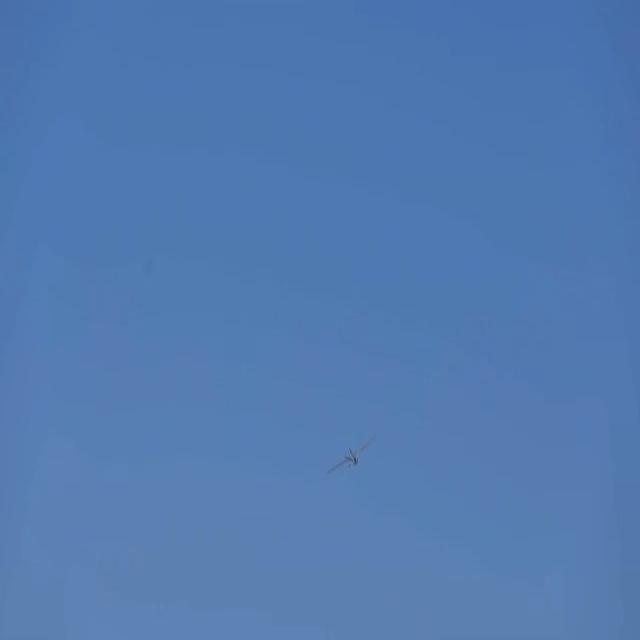iha: (323, 441, 370, 471)
